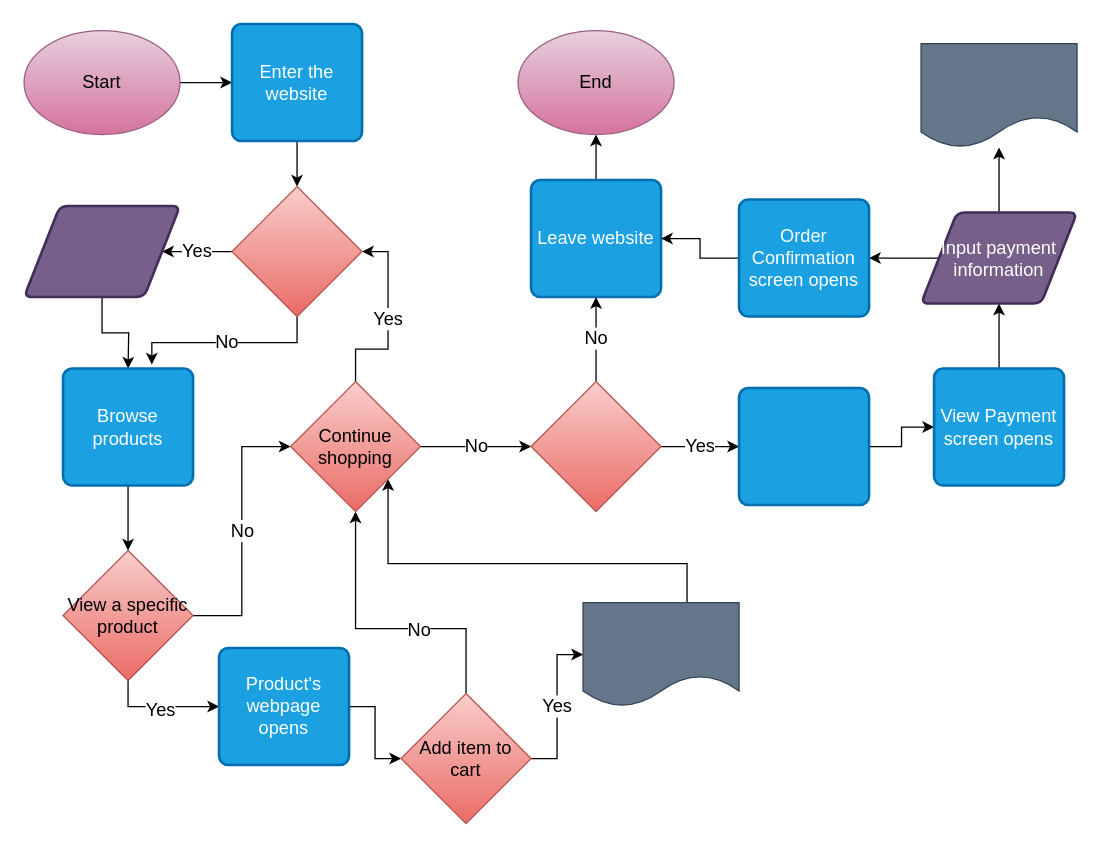
Image size: 1100x846. Some labels were removed from this diagram. The centre of each missing label's shape, as x and y in pixels:
"Cart confirmation" belongs at point (660, 654).
"Checkout items" belongs at point (595, 446).
"E-mail confirmation" belongs at point (998, 95).
"Input search" belongs at point (101, 251).
"Search for specific product" belongs at point (296, 251).
"View Cart screen opens" belongs at point (803, 446).
